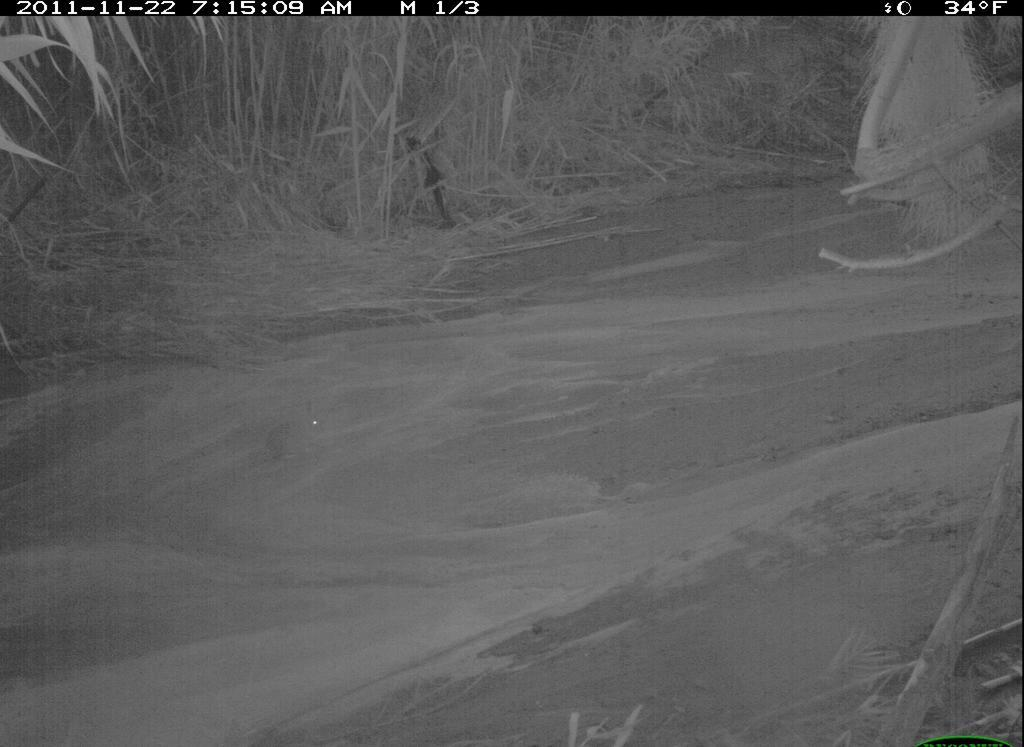rabbit: (248, 400, 342, 482)
